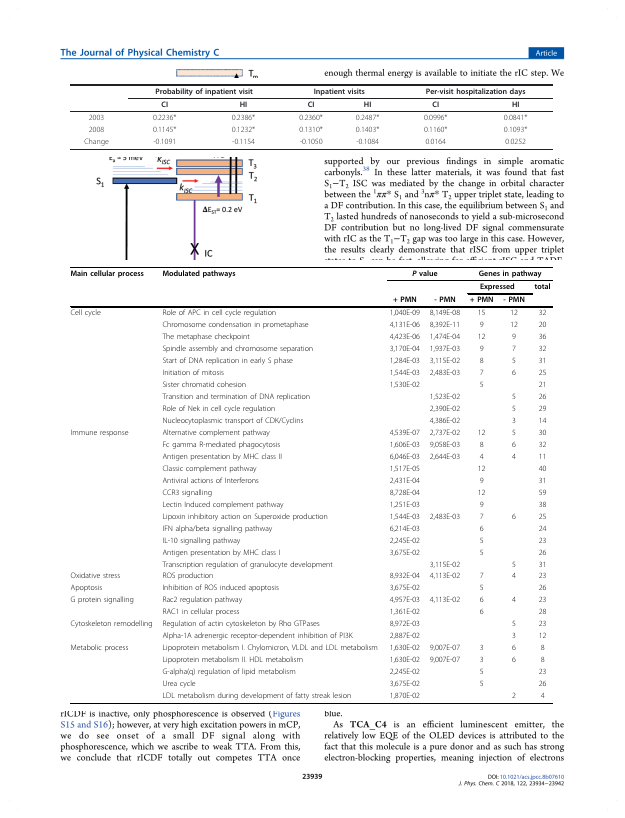borderless: (69, 265, 553, 703), (70, 83, 553, 149)
cell: (161, 643, 379, 653), (161, 631, 354, 641), (161, 691, 352, 701), (161, 619, 321, 629), (161, 560, 334, 569), (161, 344, 314, 354), (161, 512, 329, 521), (161, 392, 311, 402), (161, 416, 304, 426), (161, 655, 304, 665), (161, 667, 297, 677), (161, 321, 310, 330), (161, 356, 294, 366), (161, 452, 283, 462), (161, 440, 281, 450), (161, 404, 276, 414), (161, 500, 284, 509), (161, 428, 271, 438), (161, 548, 281, 557), (161, 584, 280, 593), (161, 309, 277, 318), (161, 524, 273, 533), (161, 464, 257, 474), (425, 87, 526, 96), (161, 332, 251, 342), (154, 87, 254, 96), (161, 476, 260, 485), (161, 380, 247, 390), (69, 619, 154, 629), (161, 595, 243, 605), (161, 607, 240, 617), (161, 536, 241, 545), (70, 269, 145, 278), (161, 269, 236, 278), (69, 595, 135, 605), (161, 368, 225, 378), (69, 428, 129, 438), (69, 643, 129, 653), (478, 269, 542, 278), (161, 572, 214, 581), (313, 87, 366, 96), (161, 488, 213, 497), (69, 572, 121, 581), (479, 282, 516, 292), (161, 679, 197, 689), (389, 332, 421, 342), (429, 332, 461, 342), (389, 344, 421, 354), (429, 344, 461, 354), (389, 356, 421, 366), (429, 356, 461, 366), (389, 368, 421, 378), (429, 368, 461, 378), (389, 380, 421, 390), (429, 392, 461, 402), (429, 404, 461, 414), (429, 416, 461, 426), (389, 428, 421, 438), (429, 428, 461, 438), (389, 440, 421, 450), (429, 440, 461, 450), (389, 452, 421, 462), (429, 452, 461, 462), (389, 464, 421, 474), (389, 595, 421, 605), (429, 595, 461, 605), (389, 607, 421, 617), (389, 619, 421, 629), (389, 631, 421, 641), (389, 643, 421, 653), (429, 643, 461, 653), (389, 655, 421, 665), (429, 655, 461, 665), (389, 667, 421, 677), (389, 679, 421, 689), (389, 691, 421, 701), (69, 584, 103, 593), (69, 309, 102, 318), (389, 309, 421, 318), (429, 309, 461, 318), (389, 321, 421, 330), (429, 321, 461, 330), (389, 476, 421, 485), (389, 488, 421, 497), (389, 500, 421, 509), (389, 512, 421, 521), (429, 512, 461, 521), (389, 524, 421, 533), (389, 536, 421, 545), (389, 548, 421, 557), (429, 560, 461, 569), (389, 572, 421, 581), (429, 572, 461, 581), (389, 584, 421, 593), (83, 137, 110, 147), (392, 295, 418, 305), (298, 113, 324, 123), (298, 125, 324, 135), (469, 295, 494, 305), (152, 113, 177, 123), (231, 113, 256, 123), (355, 113, 380, 123), (423, 113, 448, 123), (503, 113, 528, 123), (152, 125, 177, 135), (231, 125, 256, 135), (355, 125, 380, 135), (423, 125, 448, 135), (503, 125, 528, 135), (152, 137, 177, 147), (231, 137, 256, 147), (355, 137, 380, 147), (411, 269, 438, 278), (502, 295, 526, 305), (299, 137, 323, 147), (433, 295, 456, 305), (424, 137, 447, 147), (504, 137, 527, 147), (534, 282, 551, 292), (88, 113, 105, 123), (88, 125, 105, 135), (509, 309, 519, 318), (509, 321, 519, 330), (477, 332, 486, 342), (538, 332, 547, 342), (538, 344, 547, 354), (538, 356, 547, 366), (538, 368, 547, 378), (538, 380, 547, 390), (538, 392, 547, 402), (538, 404, 547, 414), (538, 416, 547, 426), (477, 428, 486, 438), (538, 428, 547, 438), (538, 440, 547, 450), (538, 452, 547, 462), (477, 464, 486, 474), (538, 464, 547, 474), (538, 595, 547, 605), (538, 607, 547, 617), (538, 619, 547, 629), (538, 631, 547, 641), (538, 667, 547, 677), (538, 679, 547, 689), (160, 100, 169, 110), (239, 100, 248, 110), (363, 100, 372, 110), (431, 100, 440, 110), (511, 100, 520, 110), (477, 309, 486, 318), (538, 309, 547, 318), (538, 321, 547, 330), (538, 476, 547, 485), (477, 488, 486, 497), (538, 488, 547, 497), (538, 500, 547, 509), (538, 512, 547, 521), (538, 524, 547, 533), (538, 536, 547, 545), (538, 548, 547, 557), (538, 560, 547, 569), (538, 572, 547, 581), (538, 584, 547, 593), (307, 100, 315, 110), (511, 332, 517, 342), (511, 344, 517, 354), (511, 356, 517, 366), (511, 368, 517, 378), (511, 392, 517, 402), (511, 404, 517, 414), (511, 416, 517, 426), (511, 428, 517, 438), (511, 440, 517, 450), (511, 452, 517, 462), (511, 595, 517, 605), (511, 619, 517, 629), (511, 631, 517, 641), (511, 643, 517, 653), (511, 655, 517, 665), (511, 691, 517, 701), (511, 512, 517, 521), (511, 560, 517, 569), (511, 572, 517, 581), (479, 344, 484, 354), (479, 356, 484, 366), (479, 368, 484, 378), (479, 380, 484, 390), (479, 440, 484, 450), (479, 452, 484, 462), (479, 595, 484, 605), (479, 607, 484, 617), (479, 643, 484, 653), (540, 643, 545, 653), (479, 655, 484, 665), (540, 655, 545, 665), (479, 667, 484, 677), (479, 679, 484, 689), (540, 691, 545, 701), (479, 321, 484, 330), (479, 476, 484, 485), (479, 500, 484, 509), (479, 512, 484, 521), (479, 524, 484, 533), (479, 536, 484, 545), (479, 548, 484, 557), (479, 572, 484, 581), (479, 584, 484, 593)
